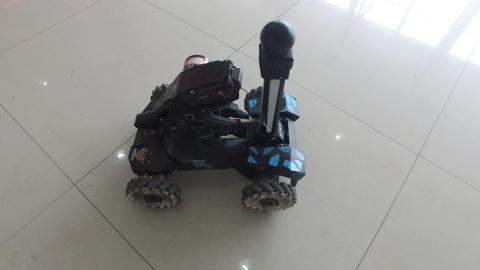chariot: (125, 25, 298, 226)
